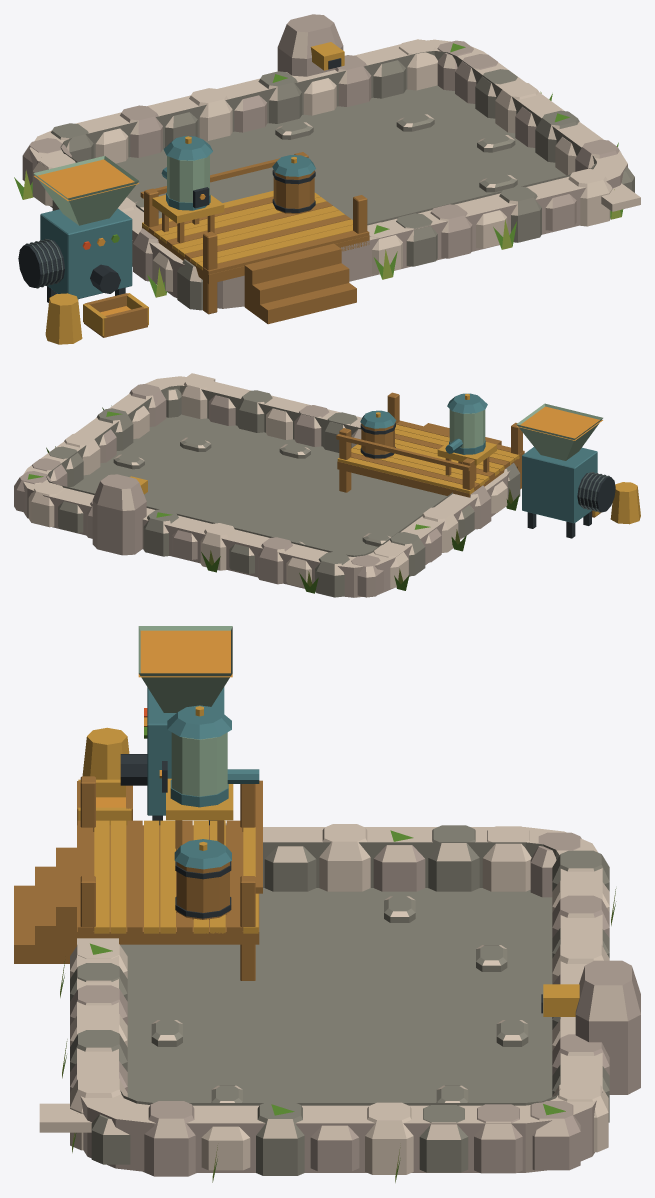
File: FishPond_A_Lv2_High.fbx
The picture shows the model from 3 angles, top to bottom: view 1: azimuth 30°, elevation 25°; view 2: azimuth 150°, elevation 25°; view 3: azimuth 270°, elevation 25°; orthographic projection. The views are drawn at different scales.
Visible parts, largest first — view 1: FishPond_A_Lv2_High; view 2: FishPond_A_Lv2_High; view 3: FishPond_A_Lv2_High.
Part boxes in pixels (x1,y1,x2,y2): FishPond_A_Lv2_High: (14, 14, 640, 344); FishPond_A_Lv2_High: (14, 373, 640, 597); FishPond_A_Lv2_High: (14, 626, 640, 1182).
Size of the model in its own units: 13.74 by 2.99 by 8.95.
